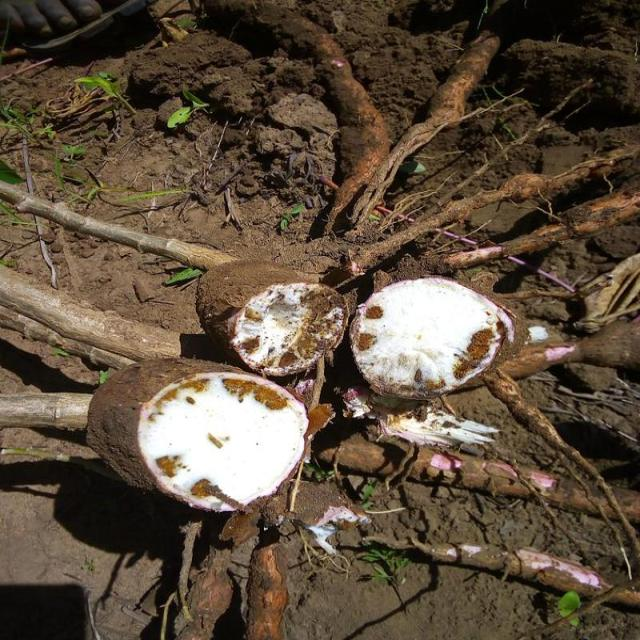cassava leaf: (136, 369, 309, 513), (348, 274, 509, 400), (226, 279, 348, 376)
